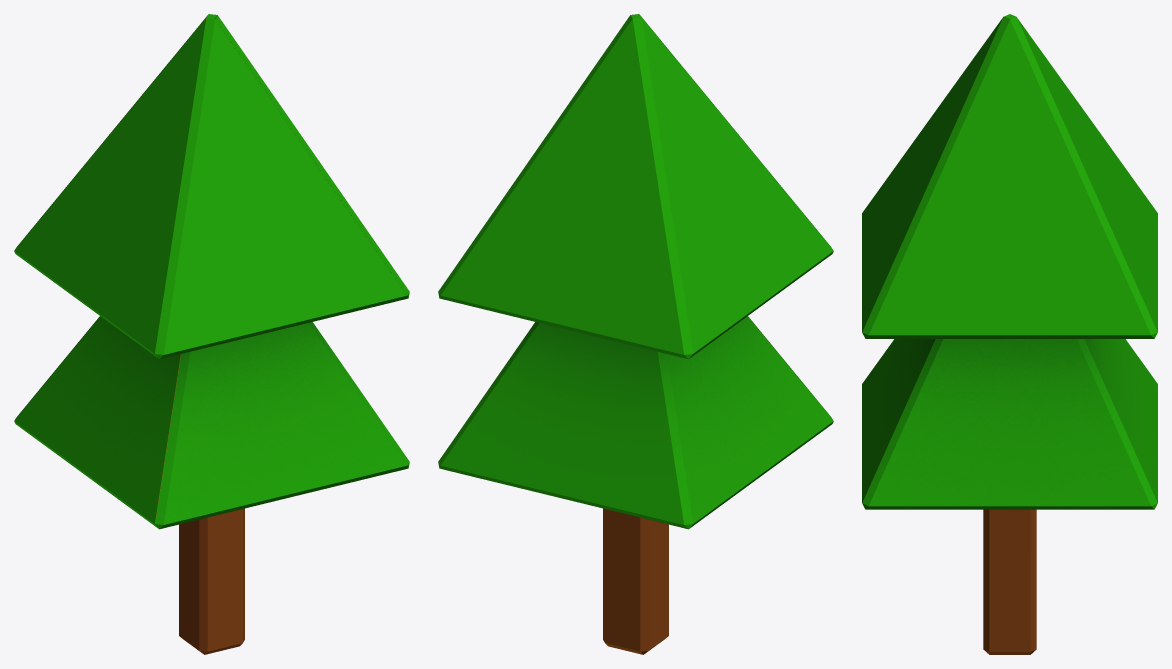
3 views of the same model, side by side, from view 1: azimuth 30°, elevation 25°; view 2: azimuth 150°, elevation 25°; view 3: azimuth 270°, elevation 25° (orthographic).
Visible parts, largest first — view 1: Cube; view 2: Cube; view 3: Cube.
Boxes of the visible parts, left/top/right/bottom form: Cube: left=14, top=14, right=409, bottom=654; Cube: left=438, top=14, right=833, bottom=654; Cube: left=862, top=14, right=1157, bottom=654.
Size of the model in its own units: 1.96 by 4.61 by 1.96.
2 materials, 2 textured.
